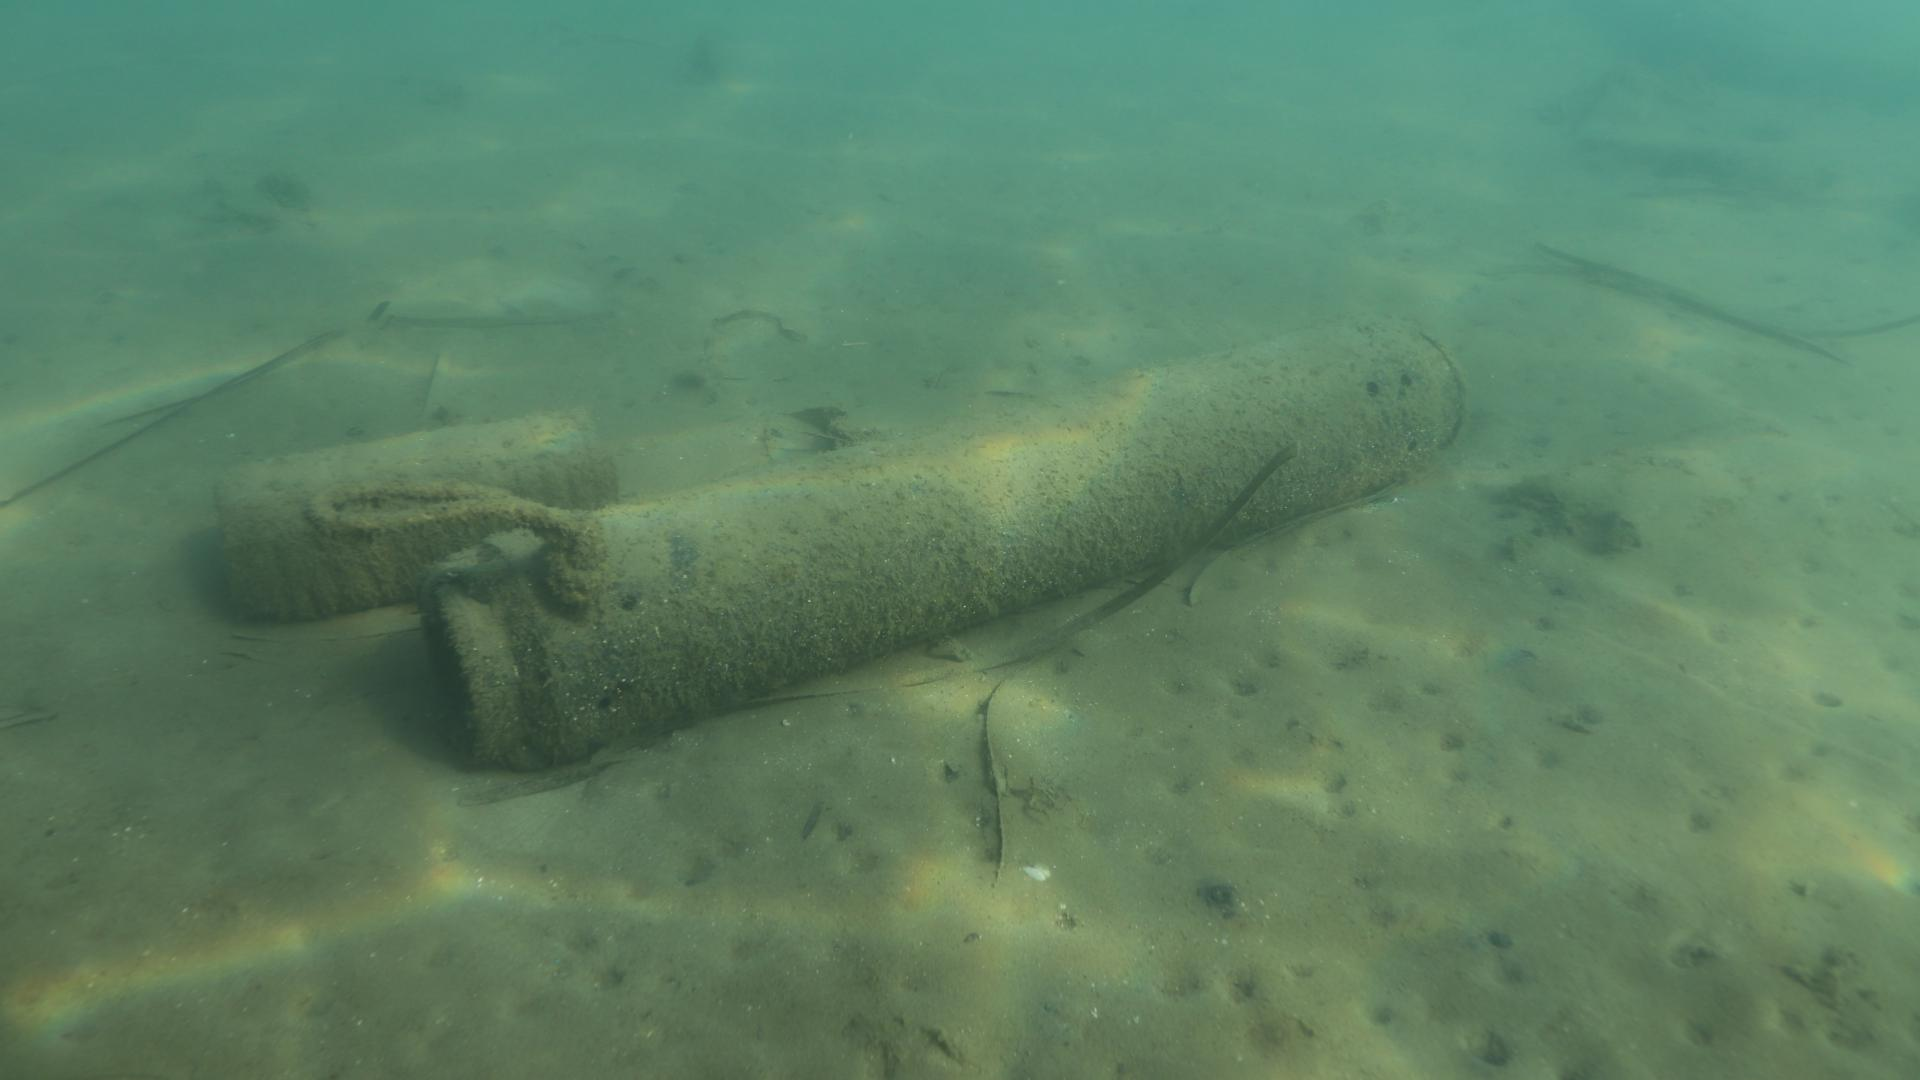bundle of ropes: (309, 479, 608, 611)
eel fish trap: (419, 319, 1466, 771)
